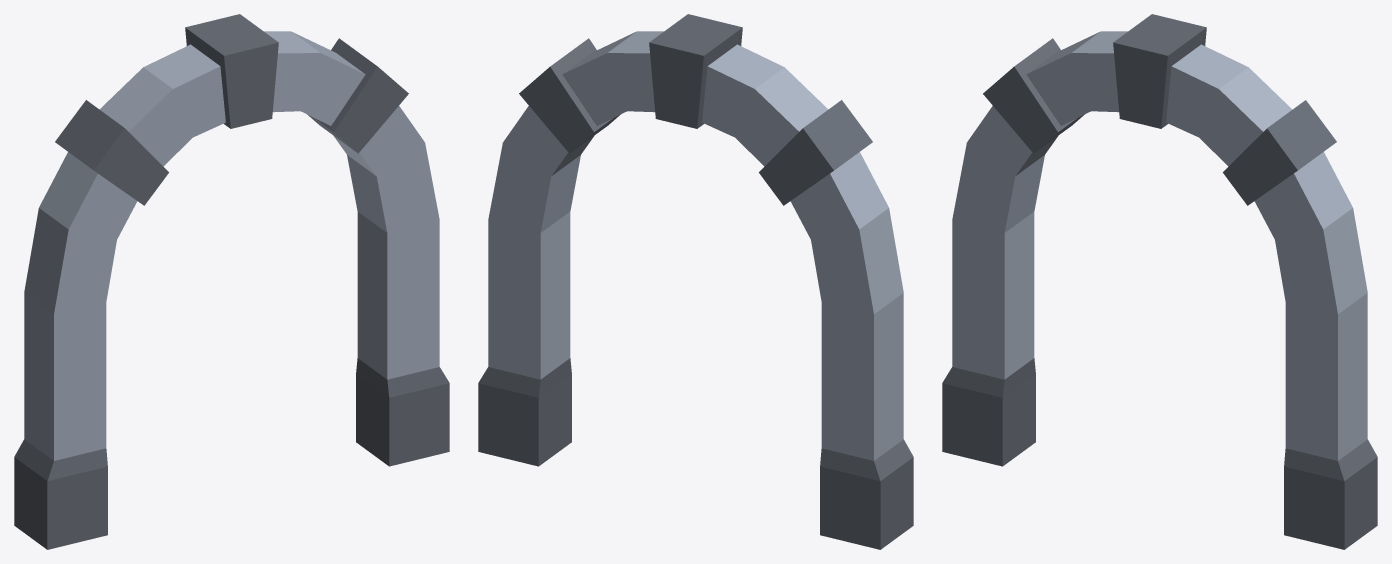
The model's file is WallArchTall.fbx.
The picture shows the model from 3 angles, left to right: view 1: azimuth 30°, elevation 25°; view 2: azimuth 150°, elevation 25°; view 3: azimuth 330°, elevation 25°; orthographic projection.
Parts seen in each view (by area): view 1: WallArchTall; view 2: WallArchTall; view 3: WallArchTall.
Boxes of the visible parts, <box> form: WallArchTall: <box>14,14,449,549</box>; WallArchTall: <box>478,14,913,549</box>; WallArchTall: <box>942,14,1377,549</box>.
Bounding box in the file's own units: 340 × 366 × 57.23.
